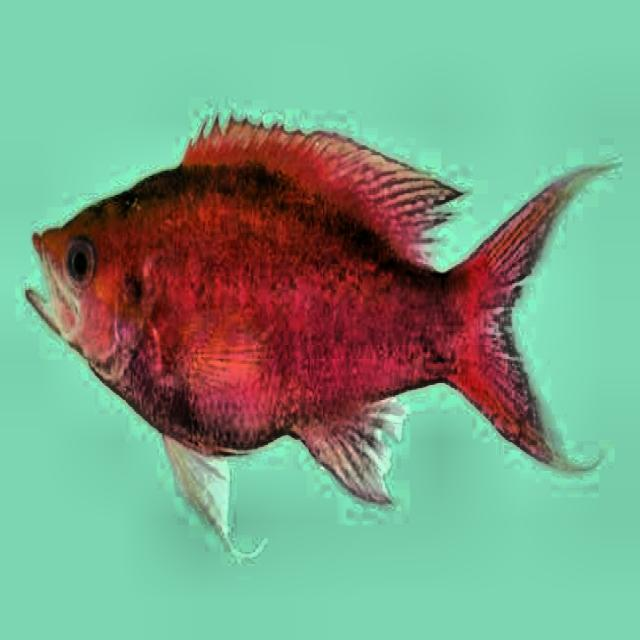fish: (24, 109, 625, 563)
